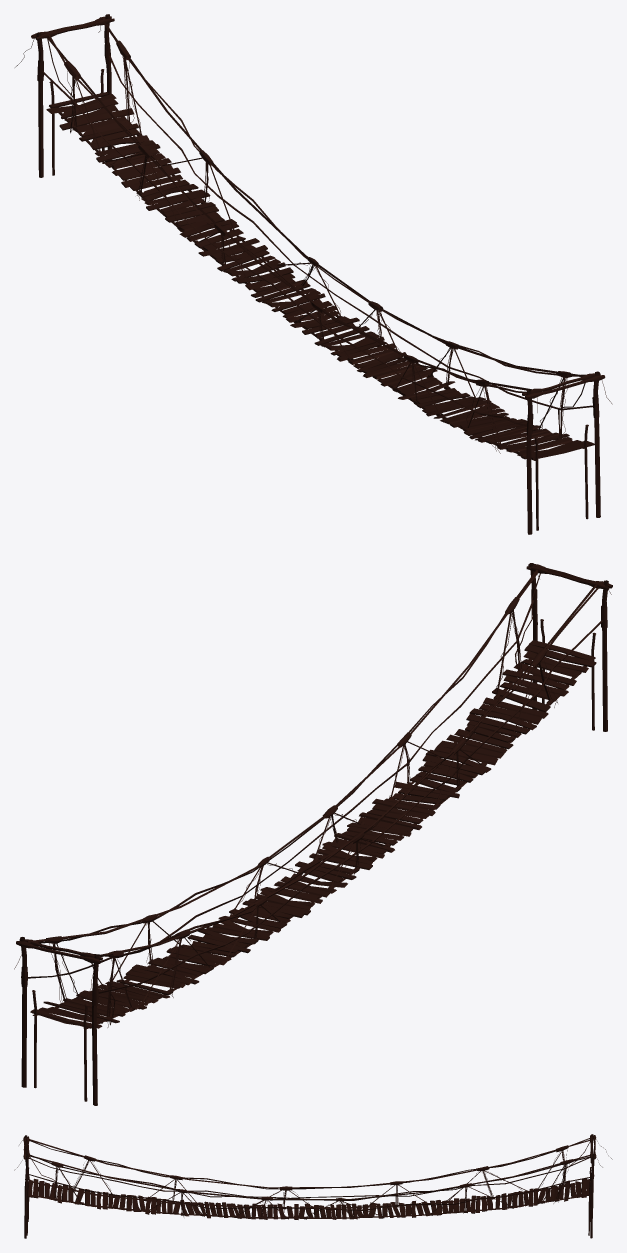
The model's file is ponteindeterminada.FBX.
The picture shows the model from 3 angles, top to bottom: view 1: azimuth 30°, elevation 25°; view 2: azimuth 150°, elevation 25°; view 3: azimuth 270°, elevation 25°; orthographic projection. The views are drawn at different scales.
Visible parts, largest first — view 1: WB; view 2: WB; view 3: WB.
Part boxes in pixels (x1,y1,x2,y2): WB: [15, 14, 612, 534]; WB: [14, 563, 612, 1105]; WB: [14, 1134, 612, 1238].
Bounding box in the file's own units: 1272 × 2098 × 13587.
